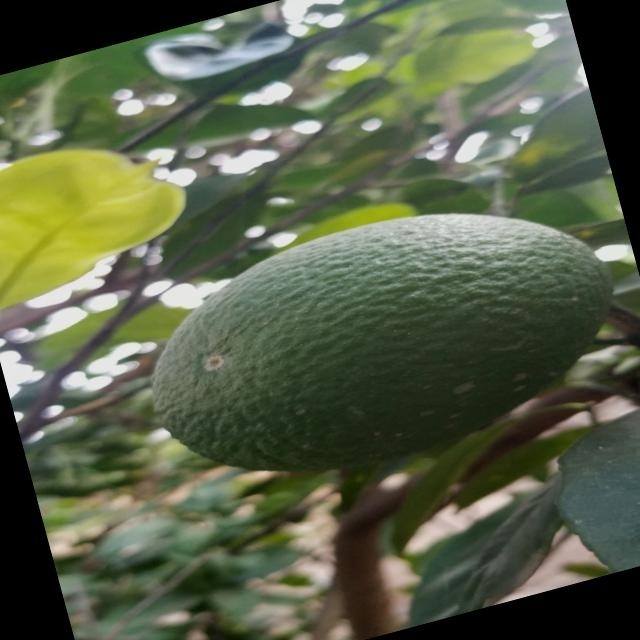agrume: (105, 162, 636, 526)
